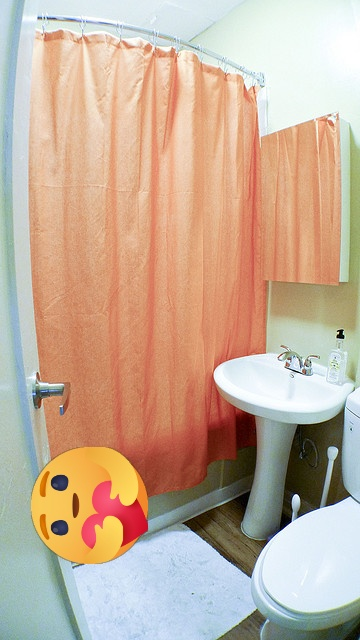care: (31, 447, 148, 564)
